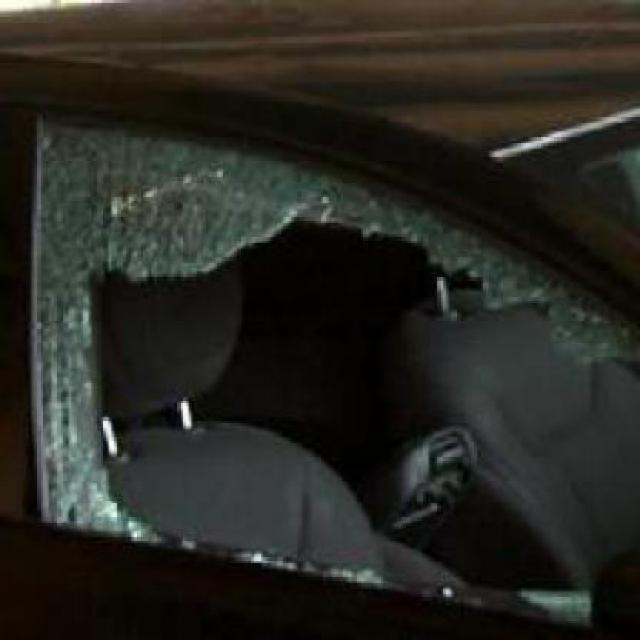damaged-window: (19, 90, 627, 624)
